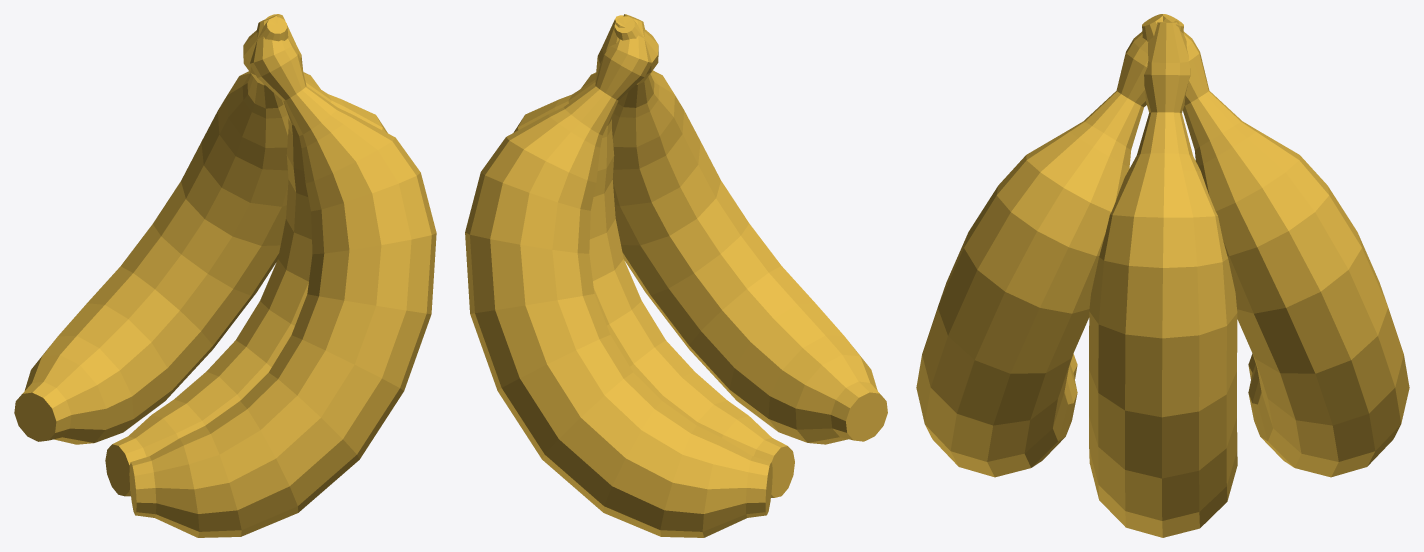
The model's file is banana.fbx.
The picture shows the model from 3 angles, left to right: view 1: azimuth 30°, elevation 25°; view 2: azimuth 150°, elevation 25°; view 3: azimuth 270°, elevation 25°; orthographic projection. The views are drawn at different scales.
Visible parts, largest first — view 1: Cylinder.002; view 2: Cylinder.002; view 3: Cylinder.002.
Part boxes in pixels (x1=…): Cylinder.002: x1=14, y1=14, x2=436, y2=537; Cylinder.002: x1=465, y1=14, x2=887, y2=537; Cylinder.002: x1=916, y1=14, x2=1409, y2=537.
Bounding box in the file's own units: 29.95 × 40.9 × 33.3.
